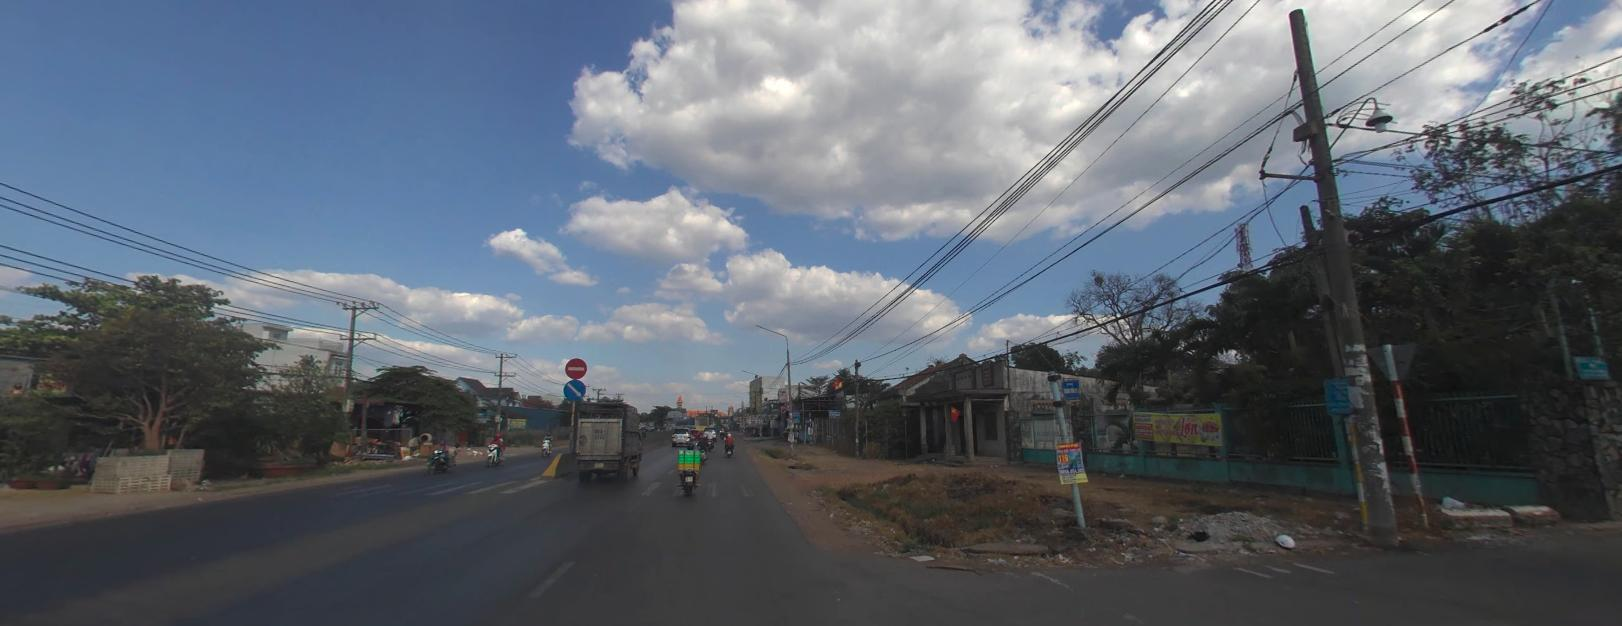Cam nguoc chieu: (565, 356, 585, 377)
Hieu lenh: (563, 378, 585, 399)
